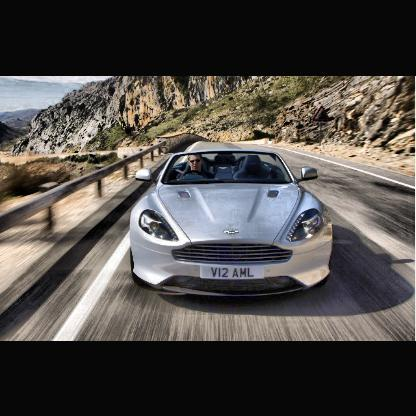Aston Martin Virage Convertible 2012: (132, 149, 334, 298)
